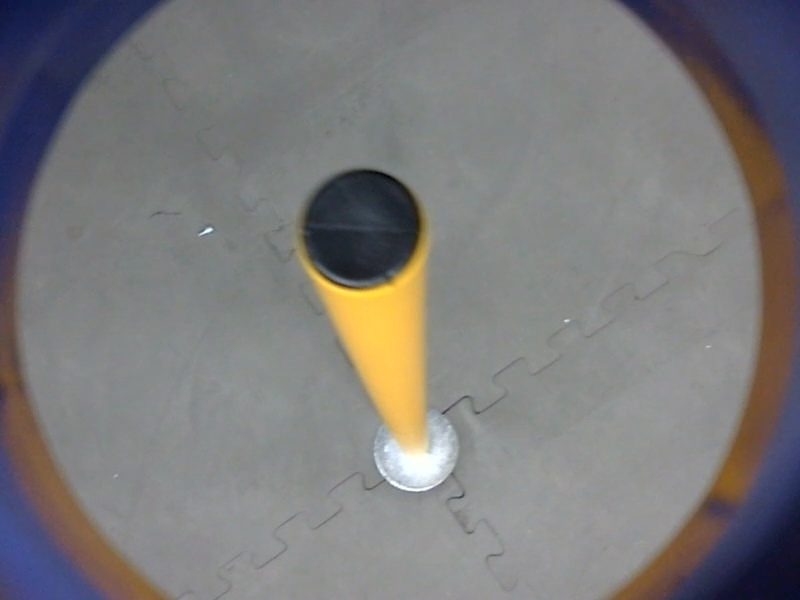tip: (286, 162, 437, 305)
